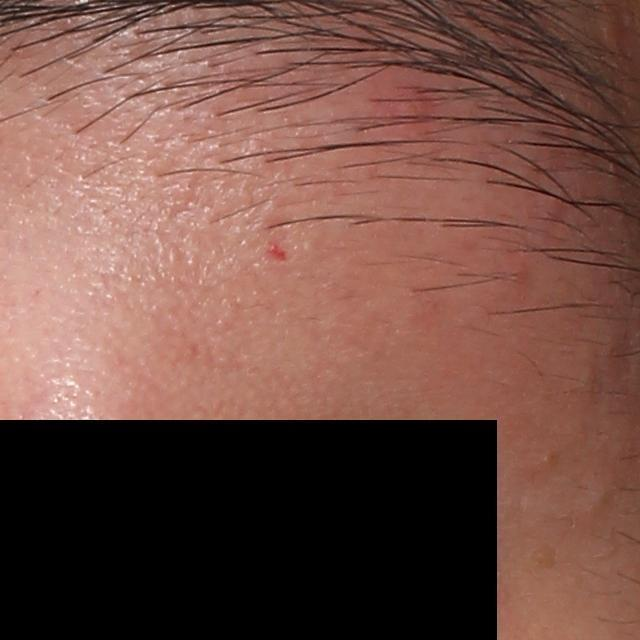comedo: (581, 487, 609, 514)
other: (266, 241, 289, 261)
